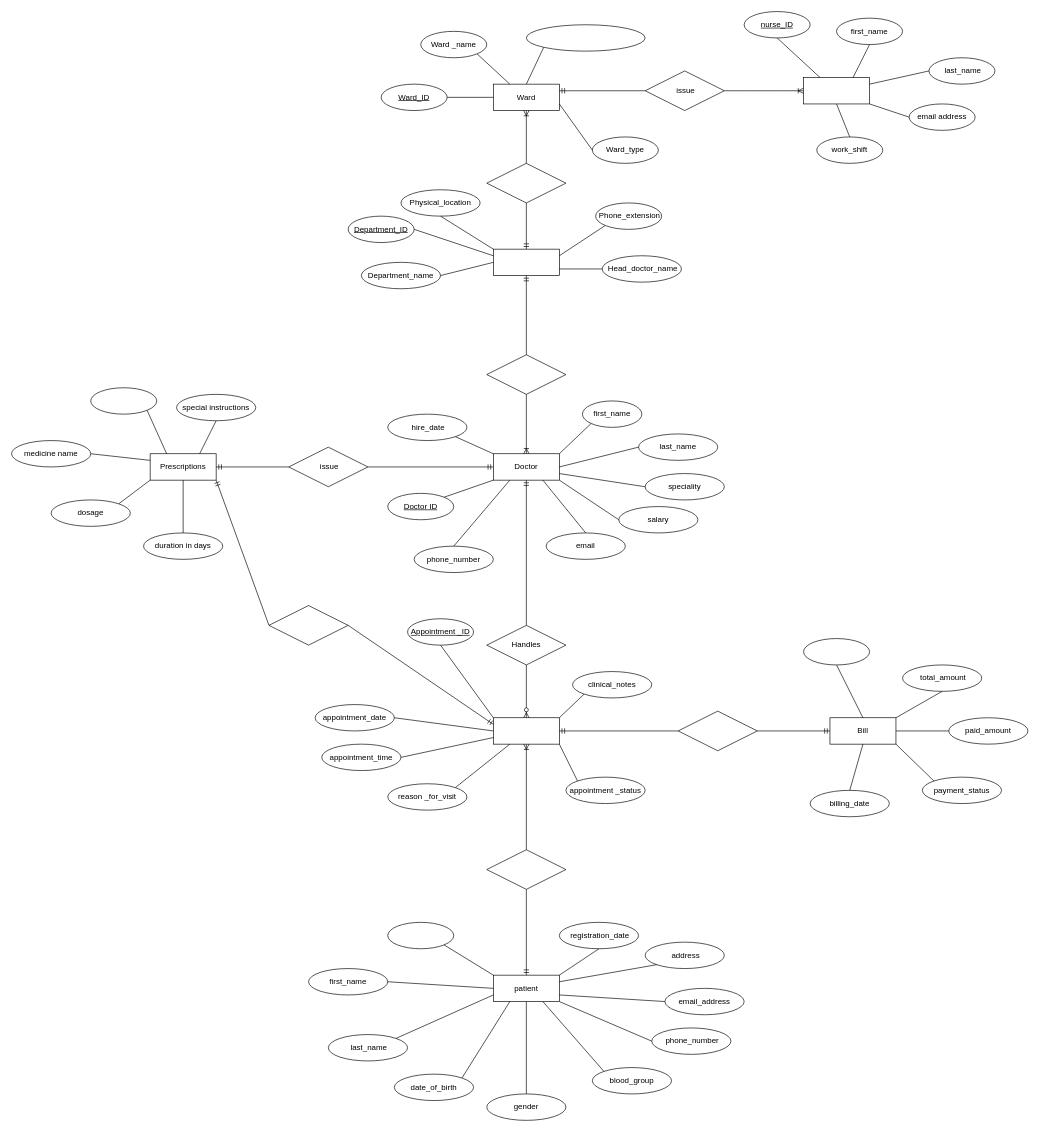
The diagram is 1040 pixels wide and 1132 high, and some of its shapes have lost their labels. The shapes that lost their labels are listed below. From the top down, each one's box as (x1, y1, x2, y2) in pixels, then its label:
(526, 24, 645, 51): Maximum_patient_capacity
(803, 77, 870, 104): nurse
(486, 163, 566, 203): Contain
(493, 248, 559, 276): Department
(486, 354, 566, 394): Bolongs
(90, 387, 157, 414): Prescriptions_ID
(268, 605, 348, 645): HAS
(803, 638, 870, 665): Bill_ID
(493, 717, 559, 744): appoinment
(677, 710, 757, 751): generate
(486, 849, 566, 889): Book
(387, 922, 454, 949): patient_ID
